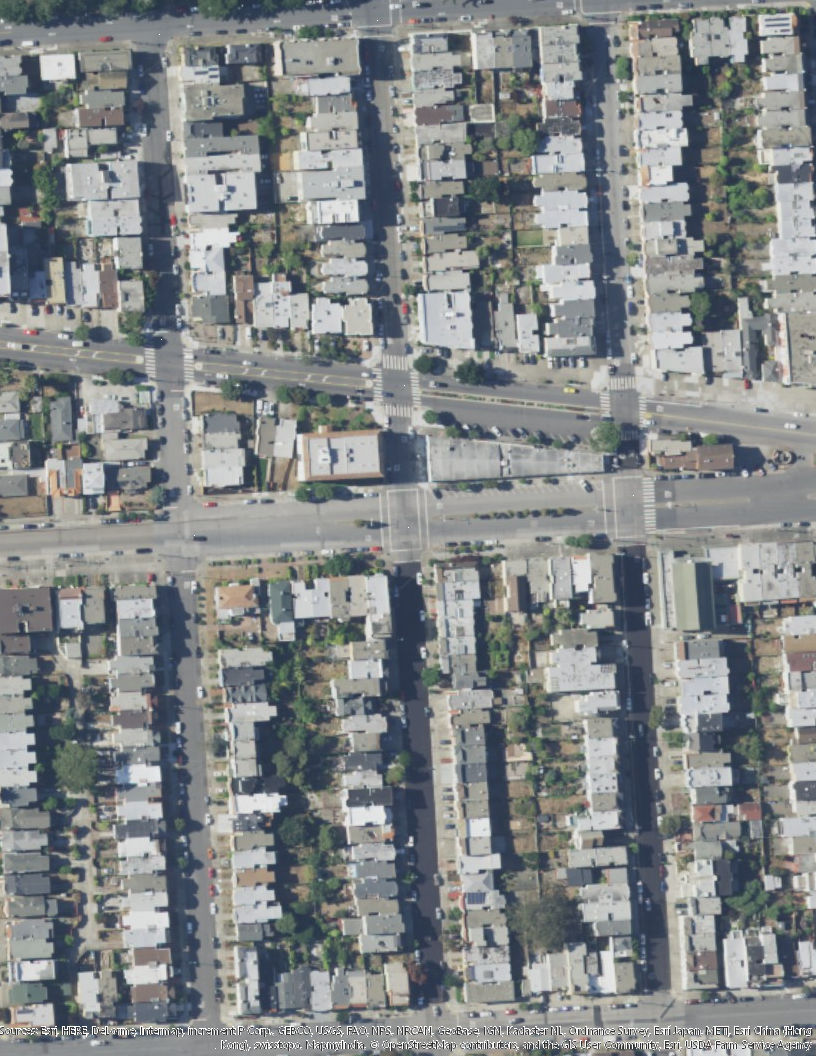zebracross: (641, 476, 658, 532), (408, 371, 422, 410), (181, 346, 196, 381), (372, 369, 384, 405), (385, 404, 413, 419), (144, 346, 157, 378), (608, 377, 639, 390), (383, 354, 408, 370), (637, 396, 648, 429), (617, 430, 640, 443), (599, 393, 612, 416)
